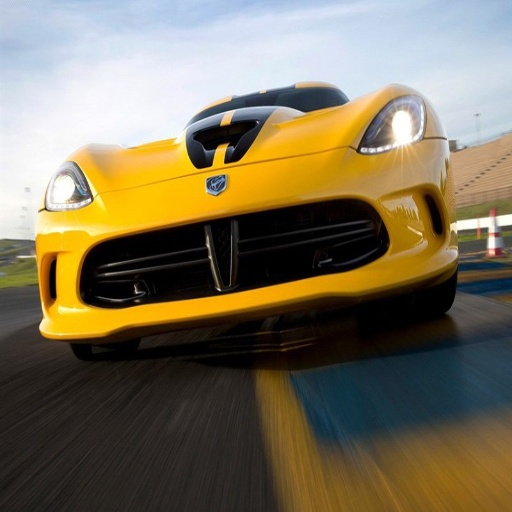front_right_light: (47, 167, 92, 207)
trunk: (158, 122, 321, 214)
